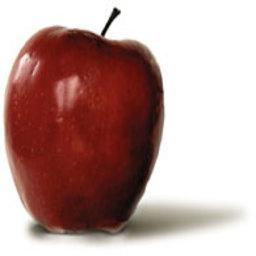apple: (2, 22, 164, 233)
